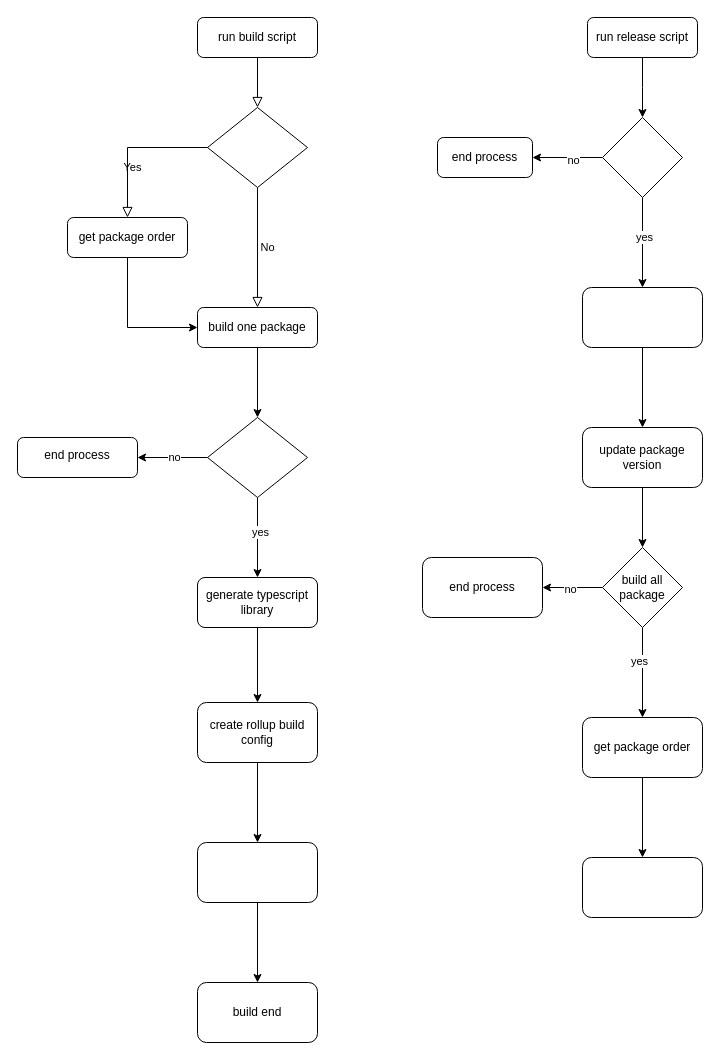
Some shapes in this 720 by 1060 pixel diagram are drawn without their labels. Here are the shapes that lost their labels. From the top down, the centre of each, then its label:
the point at 257,147: build all?
the point at 642,157: worktree is clean?
the point at 642,317: get package incremented version
the point at 257,457: package is exit?
the point at 257,872: run rollup compile package file
the point at 642,887: npm publish packgae
